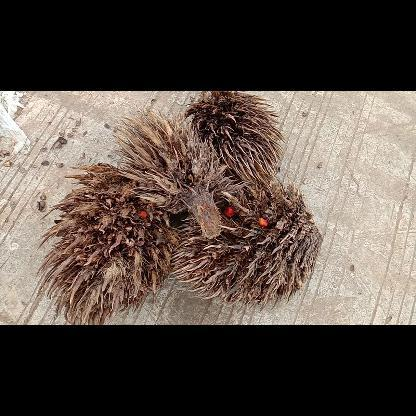Janjang kosong: (37, 162, 172, 324), (176, 181, 324, 307), (110, 106, 224, 242), (186, 91, 282, 189)
